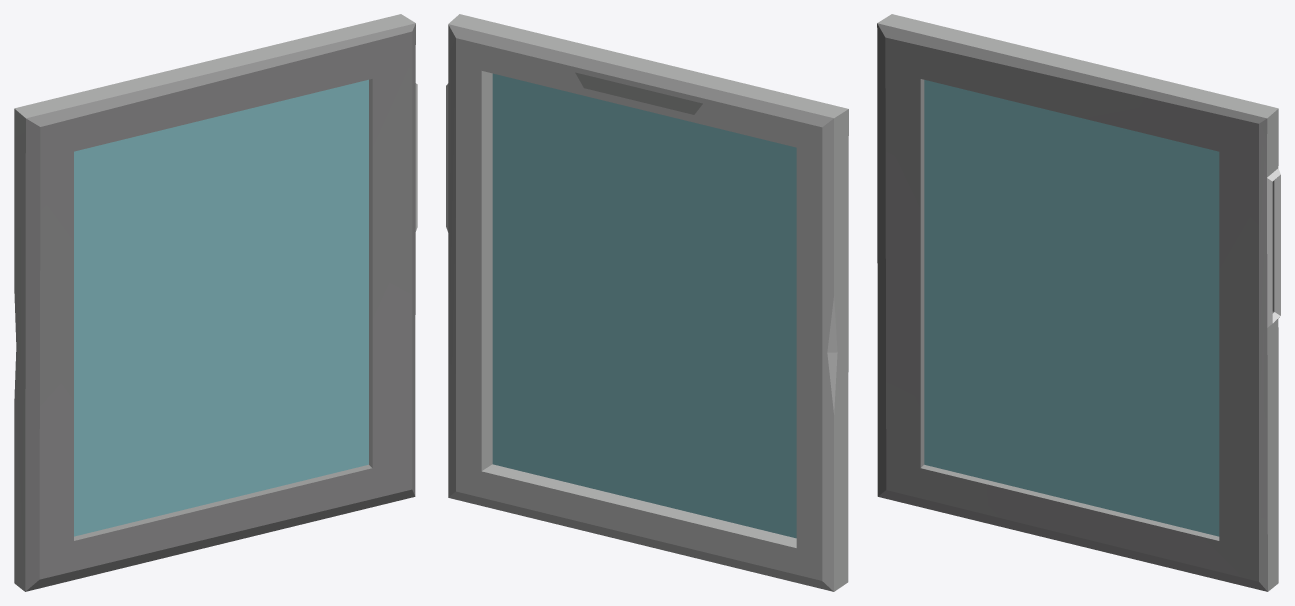
The model's file is SM_Prop_Fridge_01_Door_01.001.obj.
The picture shows the model from 3 angles, left to right: view 1: azimuth 30°, elevation 25°; view 2: azimuth 150°, elevation 25°; view 3: azimuth 330°, elevation 25°; orthographic projection.
Parts seen in each view (by area): view 1: SM_Prop_Fridge_01_Door_01.001_1, SM_Prop_Fridge_01_Door_01.001_0; view 2: SM_Prop_Fridge_01_Door_01.001_1, SM_Prop_Fridge_01_Door_01.001_0; view 3: SM_Prop_Fridge_01_Door_01.001_1, SM_Prop_Fridge_01_Door_01.001_0.
Boxes of the visible parts, x1=… form: SM_Prop_Fridge_01_Door_01.001_1: x1=74, y1=79, x2=368, y2=536; SM_Prop_Fridge_01_Door_01.001_0: x1=14, y1=14, x2=417, y2=591; SM_Prop_Fridge_01_Door_01.001_1: x1=492, y1=73, x2=796, y2=538; SM_Prop_Fridge_01_Door_01.001_0: x1=446, y1=14, x2=848, y2=591; SM_Prop_Fridge_01_Door_01.001_1: x1=924, y1=80, x2=1219, y2=536; SM_Prop_Fridge_01_Door_01.001_0: x1=877, y1=14, x2=1280, y2=591.
Size of the model in its own units: 0.7652 by 0.882 by 0.0619.
Materials: 2 (1 with a texture image).
